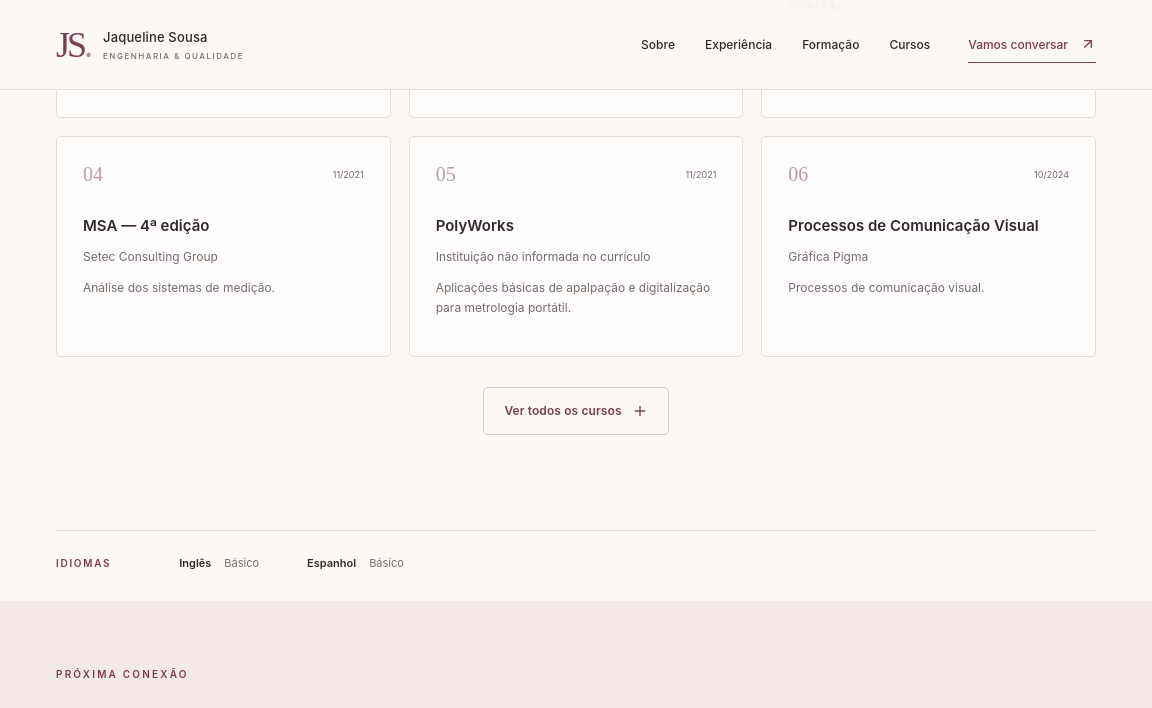
Public presentation and real editing actions › shows source content and expandable experience/courses; hides absent media
(page scrolled)
Expected: the text "Estatística e Modelagem Computacional Básica" is not shown
Click the button "Ver todos os cursos": [576, 411] box [483,387,669,435]
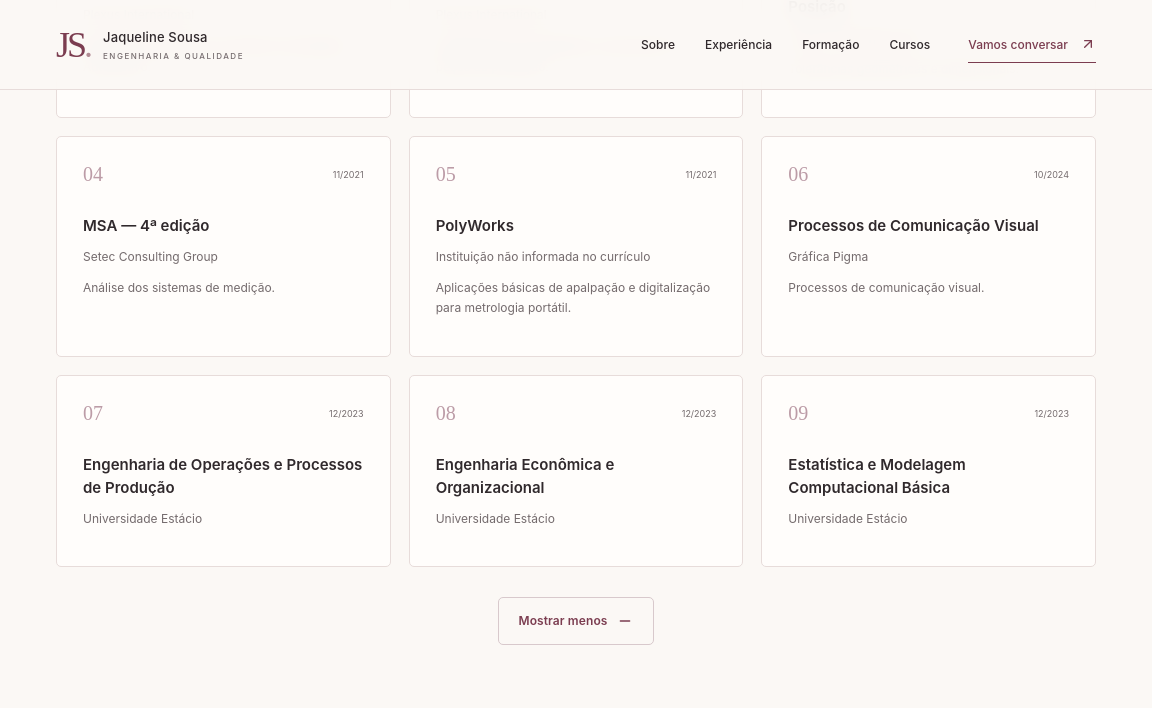
Now the heading "Estatística e Modelagem Computacional Básica" is shown, box [788,455,966,497]
